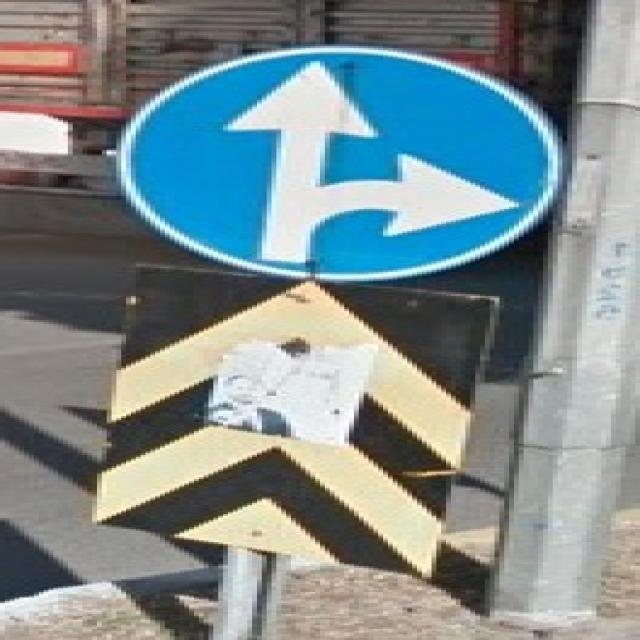Straight or Right: (108, 49, 549, 280)
